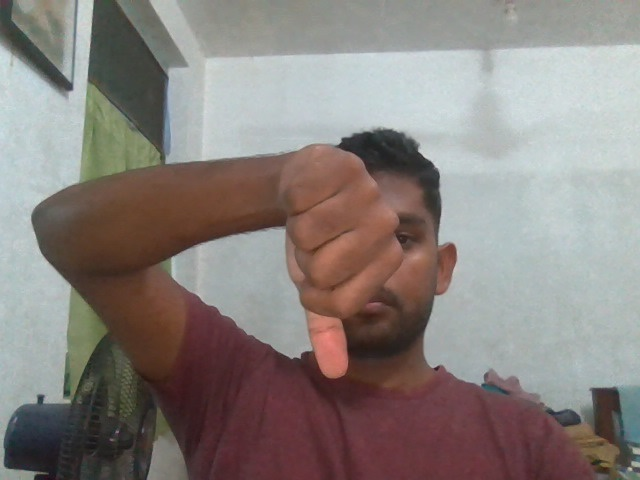dontlike: (245, 129, 397, 386)
